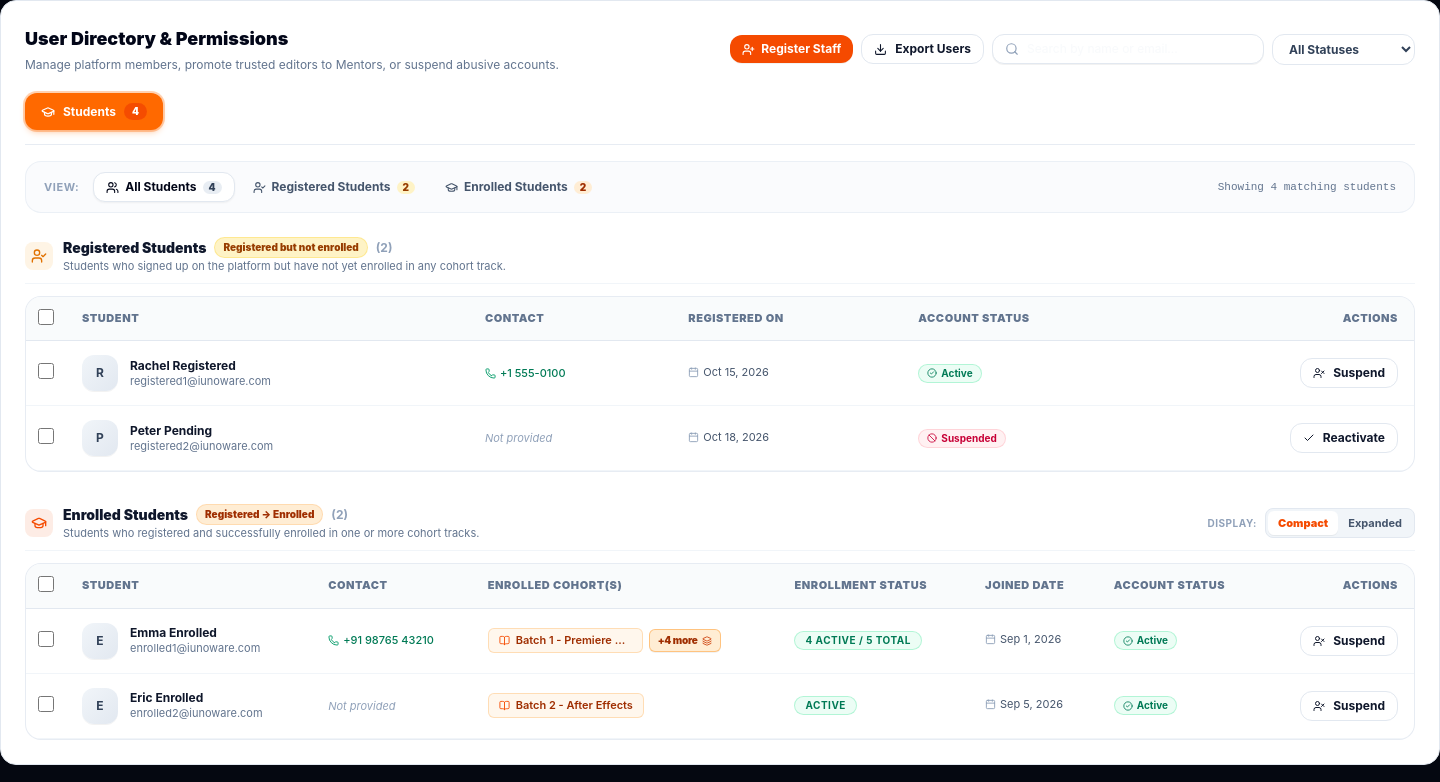
Test: Admin Console - Student Directory Enrollment Segregation › allows toggling cohort display mode between Compact and Expanded
The image size is (1440, 782).
Check: the button with test id "view-cohorts-student-enrolled-1" is shown, box [649,629,721,652]
# Toggle to expanded
Click the button with test id "cohort-display-expanded": (1375, 523) [1338,511,1412,536]
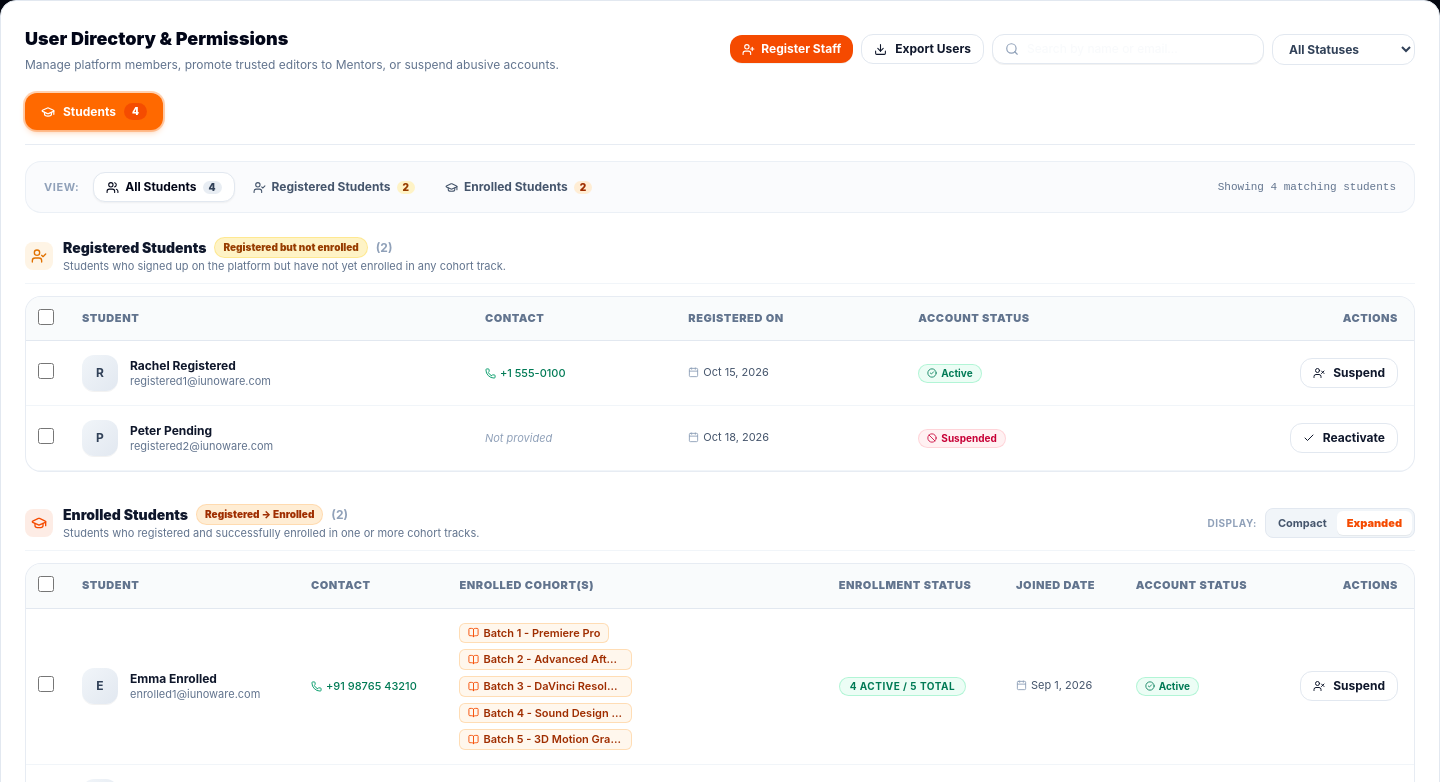
Check: the element with test id "enrolled-students-section" shows "Batch 2 - Advanced After Effects", box [459,649,632,670]
Check: the element with test id "enrolled-students-section" shows "Batch 3 - DaVinci Resolve Color Grading", box [459,676,632,697]
# Switch back to compact
Click the button with test id "cohort-display-compact": (1302, 523) [1268,511,1337,536]
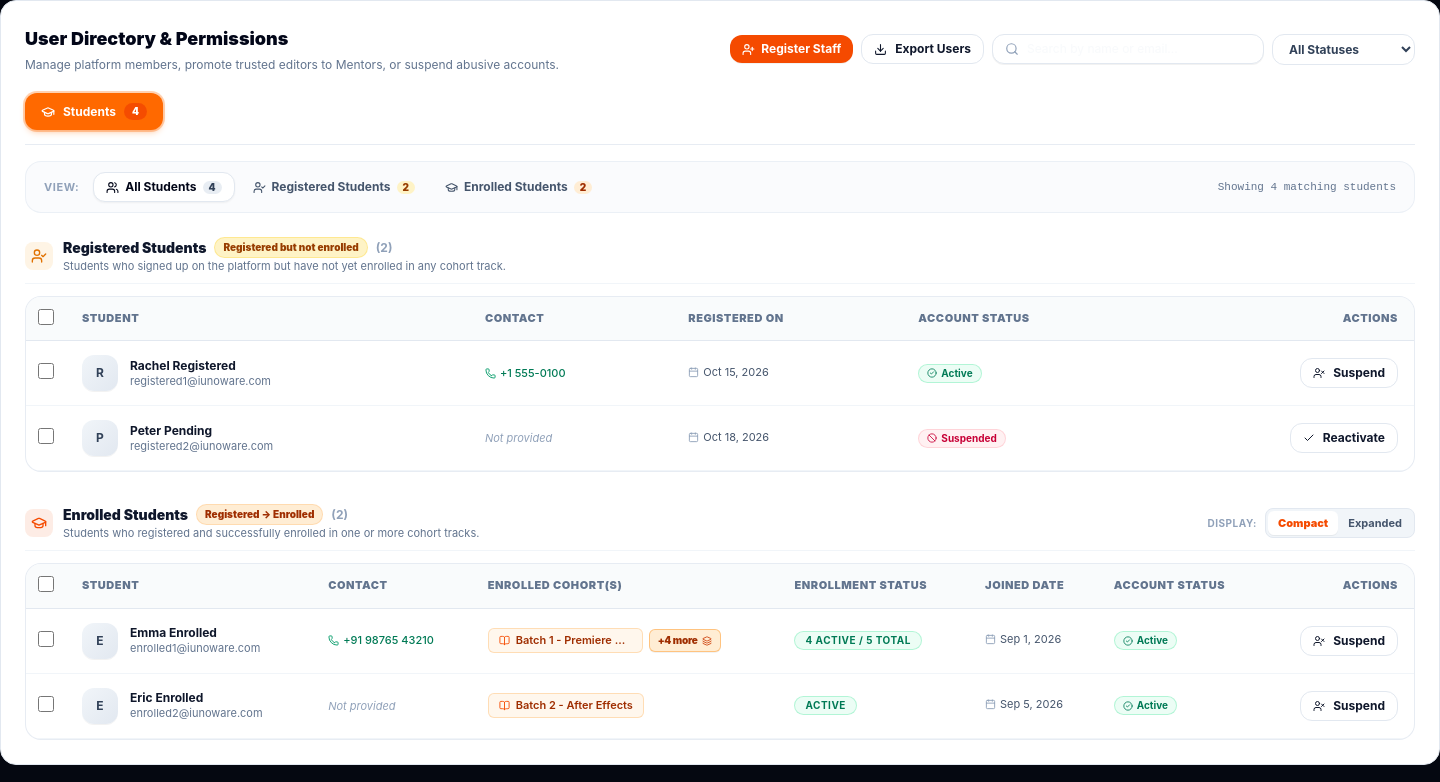
Check: the button with test id "view-cohorts-student-enrolled-1" is shown, box [649,629,721,652]
